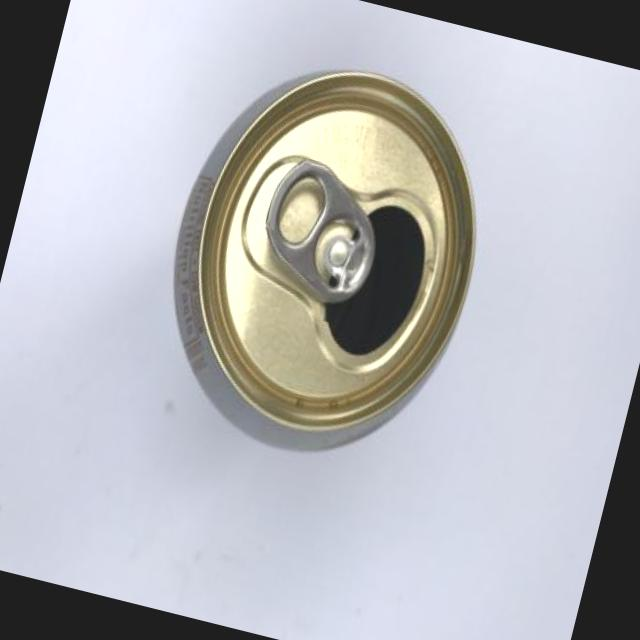kim_loai: (174, 70, 475, 450)
